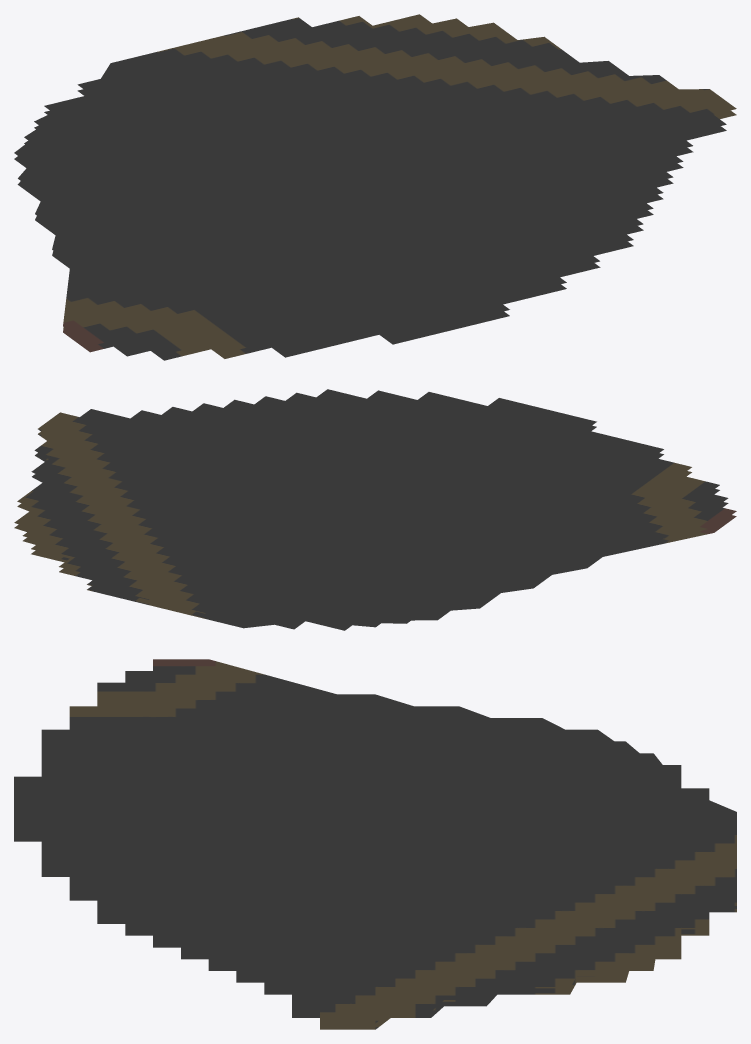
File: Helmet.fbx
3 renders of one model, top to bottom at view 1: azimuth 30°, elevation 25°; view 2: azimuth 150°, elevation 25°; view 3: azimuth 270°, elevation 25°, orthographic. The views are drawn at different scales.
Parts seen in each view (by area): view 1: 1安全头盔.001; view 2: 1安全头盔.001; view 3: 1安全头盔.001.
Part boxes in pixels (bbox=[...]): 1安全头盔.001: bbox=[14, 14, 736, 360]; 1安全头盔.001: bbox=[14, 389, 736, 630]; 1安全头盔.001: bbox=[14, 659, 736, 1029].
Size of the model in its own units: 6200 by 50 by 5200.
